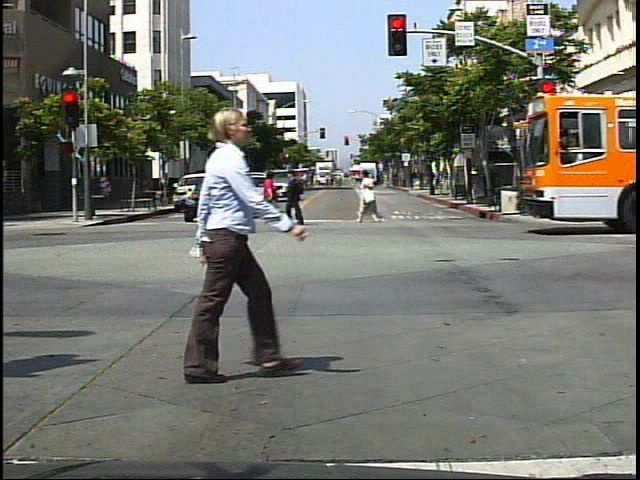person: (146, 91, 314, 393), (283, 165, 313, 224), (356, 167, 385, 227), (258, 168, 284, 217), (552, 160, 574, 211)
